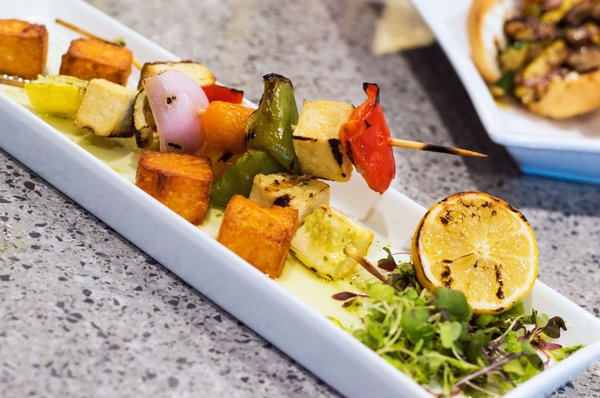sushi: (0, 0, 590, 397), (411, 190, 540, 315)
